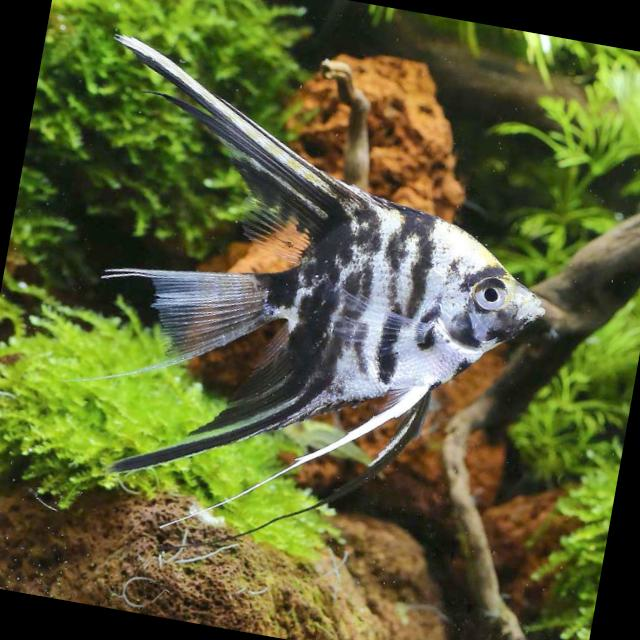AngelFish: (27, 24, 580, 605)
